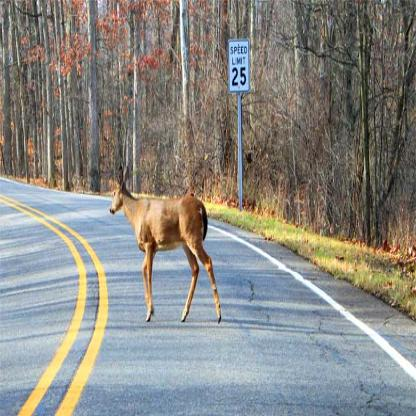Deer: (108, 162, 222, 327)
